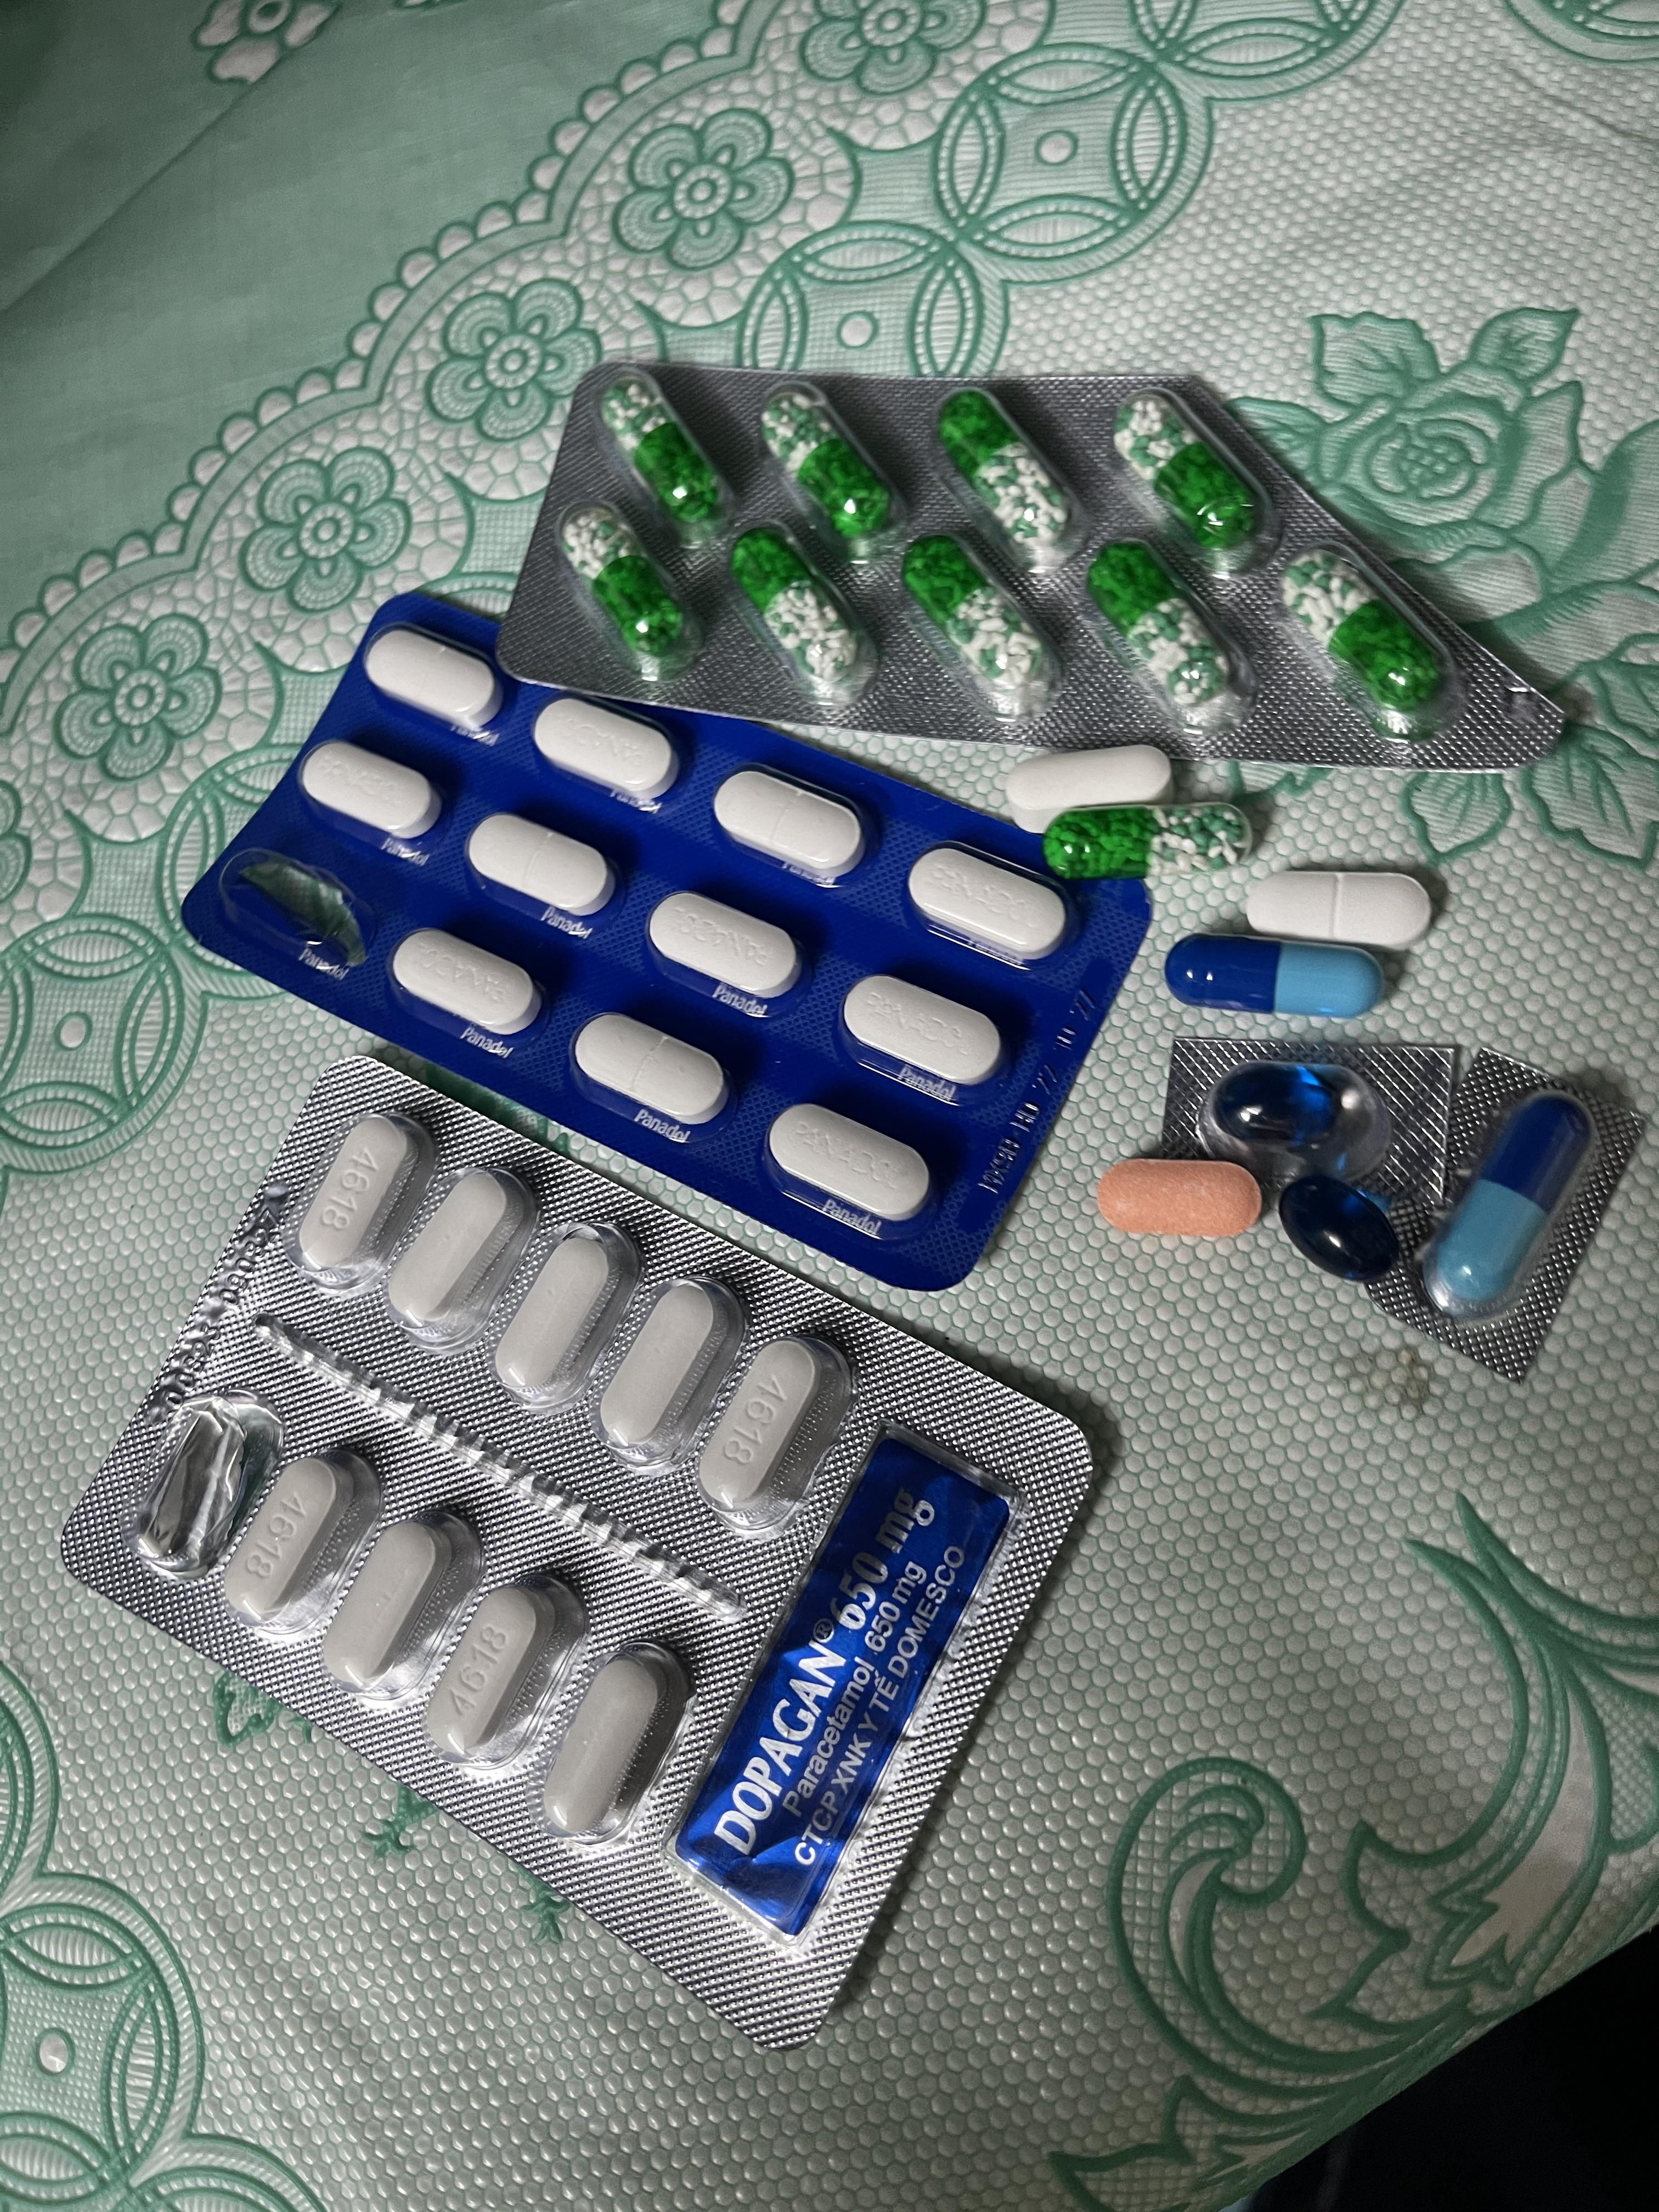Lincomyxin_500mg: (1277, 1172, 1410, 1284), (1208, 1061, 1349, 1160)
Loratadine_10mg: (1098, 1158, 1262, 1240)
Paracetamol_350mg: (908, 845, 1070, 963), (838, 974, 1002, 1090), (769, 1103, 934, 1216), (713, 768, 868, 883), (647, 892, 800, 1005), (572, 1012, 723, 1123), (392, 928, 538, 1036), (535, 695, 680, 803), (467, 813, 613, 920), (1248, 869, 1434, 951), (366, 624, 502, 730), (301, 740, 441, 841)
Paracetamol_500mg: (422, 1573, 582, 1778), (695, 1332, 852, 1526), (322, 1508, 479, 1702), (225, 1447, 378, 1635), (547, 1644, 690, 1844), (594, 1282, 742, 1463), (493, 1228, 641, 1406), (387, 1162, 533, 1332), (293, 1115, 427, 1278), (1006, 745, 1164, 834)
Paracetamol_650mg: (1279, 550, 1453, 735), (1084, 542, 1248, 728), (901, 538, 1063, 719), (1114, 388, 1269, 571), (938, 388, 1093, 571), (756, 381, 906, 563), (723, 526, 875, 700), (594, 371, 737, 552), (558, 502, 702, 678), (1060, 805, 1248, 878)
pill: (1419, 1094, 1595, 1318), (1171, 937, 1378, 1019)
